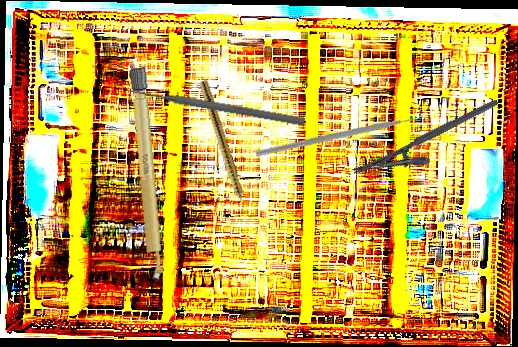Chopper: (253, 50, 435, 230)
Handpiece: (195, 79, 251, 215)
Needle Holder: (351, 98, 509, 195)
Pusher: (126, 84, 306, 128)
Scalpel Handle: (129, 66, 165, 285)
